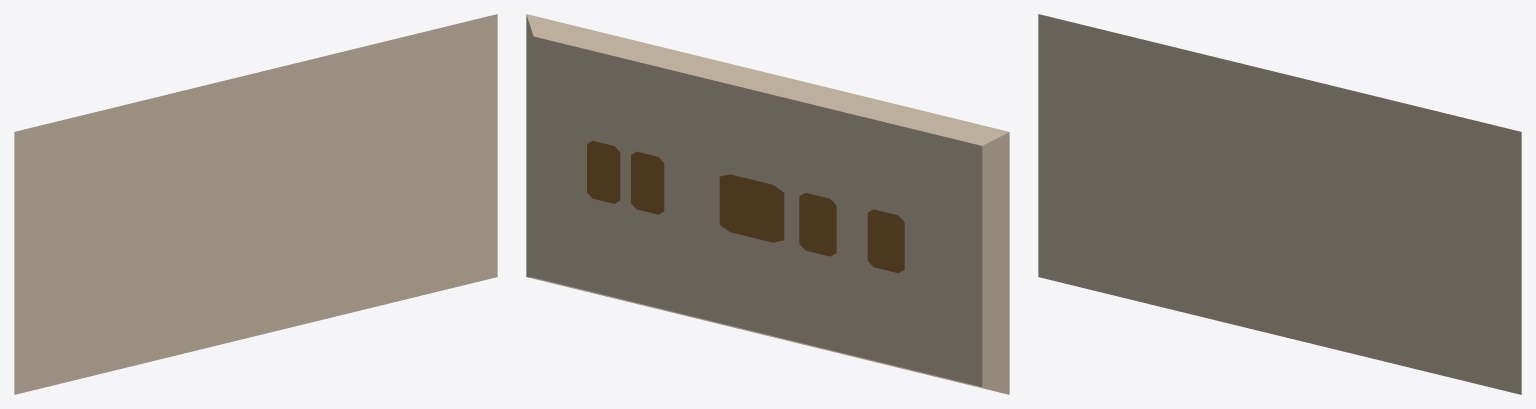
Rendered from Prop_wal_item1.FBX.
3 renders of one model, left to right at view 1: azimuth 30°, elevation 25°; view 2: azimuth 150°, elevation 25°; view 3: azimuth 330°, elevation 25°, orthographic.
Parts seen in each view (by area): view 1: Box183; view 2: Box183; view 3: Box183.
Boxes of the visible parts, x1,y1,x2,y2 form: Box183: (14,14,497,394); Box183: (526,14,1009,394); Box183: (1038,14,1521,394).
Size of the model in its own units: 17.4 by 9.05 by 0.8201.
